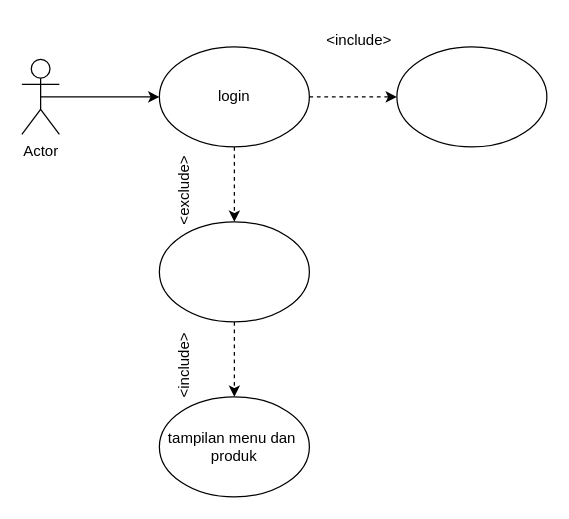
The diagram is 569 pixels wide and 519 high, and some of its shapes have lost their labels. Here are the shapes that lost their labels. From the top down, the centre of each, then its label:
At point (471, 96): "registrasi".
At point (233, 271): "homepage".
